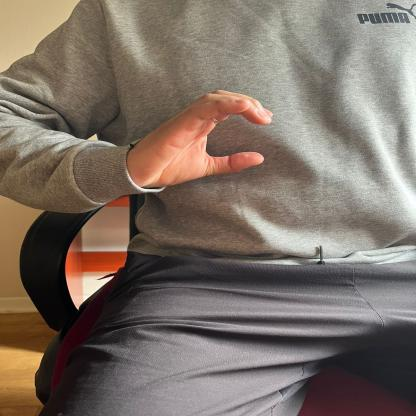C: (130, 79, 281, 198)
